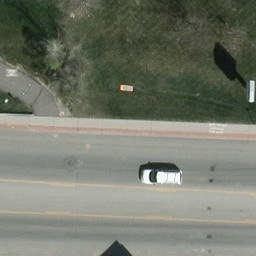car: (141, 169, 184, 185)
